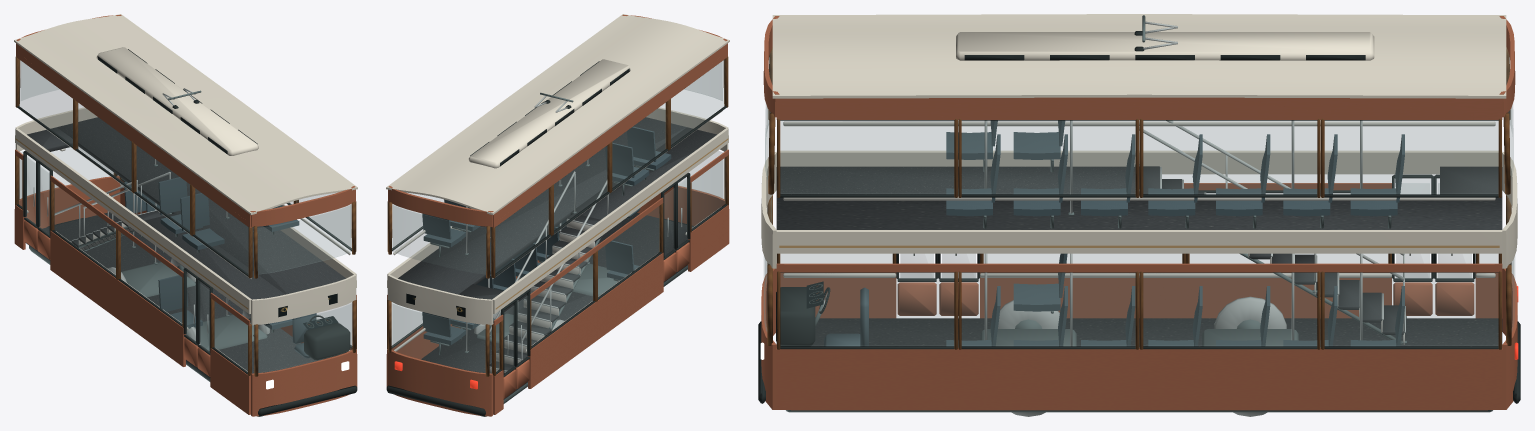
The model's file is vesper-t9-lod1.glb.
The picture shows the model from 3 angles, left to right: view 1: azimuth 30°, elevation 25°; view 2: azimuth 150°, elevation 25°; view 3: azimuth 270°, elevation 25°; orthographic projection. The views are drawn at different scales.
Visible parts, largest first — view 1: LOD1-tram-detail-1-pearl-batch, LOD1-tram-detail-1-glass-batch, LOD1-tram-detail-1-paint-batch, LOD1-tram-detail-1-floor-batch, LOD1-tram-detail-1-cloth-batch, LOD1-tram-detail-1-dark-batch, LOD1-tram-detail-1-wood-batch, LOD1-tram-detail-1-steel-batch, LOD1-tram-detail-1-metal-batch, LOD1-tram-detail-1-interior-batch, LOD1-tram-door-0-port-leaf-1-glass-batch, LOD1-tram-door-1-port-leaf-1-glass-batch (+8 smaller); view 2: LOD1-tram-detail-1-pearl-batch, LOD1-tram-detail-1-glass-batch, LOD1-tram-detail-1-paint-batch, LOD1-tram-detail-1-floor-batch, LOD1-tram-detail-1-cloth-batch, LOD1-tram-detail-1-wood-batch, LOD1-tram-detail-1-dark-batch, LOD1-tram-detail-1-interior-batch, LOD1-tram-detail-1-steel-batch, LOD1-tram-detail-1-metal-batch, LOD1-tram-door-1-port-leaf--1-glass-batch, LOD1-tram-door-0-port-leaf--1-glass-batch (+7 smaller); view 3: LOD1-tram-detail-1-glass-batch, LOD1-tram-detail-1-pearl-batch, LOD1-tram-detail-1-paint-batch, LOD1-tram-detail-1-floor-batch, LOD1-tram-detail-1-cloth-batch, LOD1-tram-detail-1-dark-batch, LOD1-tram-detail-1-interior-batch, LOD1-tram-detail-1-wood-batch, LOD1-tram-detail-1-steel-batch, LOD1-tram-detail-1-metal-batch, LOD1-tram-detail-1-livery-batch, LOD1-wheel-rear--1-metal-batch (+6 smaller).
Boxes of the visible parts, <box> form: LOD1-tram-detail-1-pearl-batch: <box>14,14,357,325</box>; LOD1-tram-detail-1-glass-batch: <box>18,60,351,372</box>; LOD1-tram-detail-1-paint-batch: <box>14,14,357,416</box>; LOD1-tram-detail-1-floor-batch: <box>25,117,345,377</box>; LOD1-tram-detail-1-cloth-batch: <box>124,177,316,358</box>; LOD1-tram-detail-1-dark-batch: <box>16,49,357,415</box>; LOD1-tram-detail-1-wood-batch: <box>15,56,356,376</box>; LOD1-tram-detail-1-steel-batch: <box>29,90,274,416</box>; LOD1-tram-detail-1-metal-batch: <box>54,88,317,319</box>; LOD1-tram-detail-1-interior-batch: <box>21,111,350,371</box>; LOD1-tram-door-0-port-leaf-1-glass-batch: <box>39,167,49,234</box>; LOD1-tram-door-1-port-leaf-1-glass-batch: <box>199,284,209,351</box>; LOD1-tram-detail-1-pearl-batch: <box>386,14,729,325</box>; LOD1-tram-detail-1-glass-batch: <box>392,60,725,372</box>; LOD1-tram-detail-1-paint-batch: <box>386,14,729,416</box>; LOD1-tram-detail-1-floor-batch: <box>398,117,716,399</box>; LOD1-tram-detail-1-cloth-batch: <box>422,126,671,345</box>; LOD1-tram-detail-1-wood-batch: <box>387,56,728,376</box>; LOD1-tram-detail-1-dark-batch: <box>386,61,727,415</box>; LOD1-tram-detail-1-interior-batch: <box>393,111,722,373</box>; LOD1-tram-detail-1-steel-batch: <box>430,92,687,416</box>; LOD1-tram-detail-1-metal-batch: <box>466,95,608,371</box>; LOD1-tram-door-1-port-leaf--1-glass-batch: <box>664,189,674,256</box>; LOD1-tram-door-0-port-leaf--1-glass-batch: <box>504,306,514,373</box>; LOD1-tram-detail-1-glass-batch: <box>763,48,1514,345</box>; LOD1-tram-detail-1-pearl-batch: <box>761,14,1517,268</box>; LOD1-tram-detail-1-paint-batch: <box>761,16,1517,410</box>; LOD1-tram-detail-1-floor-batch: <box>776,166,1502,347</box>; LOD1-tram-detail-1-cloth-batch: <box>824,120,1404,347</box>; LOD1-tram-detail-1-dark-batch: <box>758,31,1520,403</box>; LOD1-tram-detail-1-interior-batch: <box>783,121,1495,344</box>; LOD1-tram-detail-1-wood-batch: <box>767,47,1511,349</box>; LOD1-tram-detail-1-steel-batch: <box>786,15,1492,412</box>; LOD1-tram-detail-1-metal-batch: <box>822,21,1405,346</box>; LOD1-tram-detail-1-livery-batch: <box>779,245,1499,247</box>; LOD1-wheel-rear--1-metal-batch: <box>1214,296,1286,328</box>.
Bounding box in the file's own units: 2.27 × 4.69 × 8.93.
Materials: 14 (5 with a texture image).
